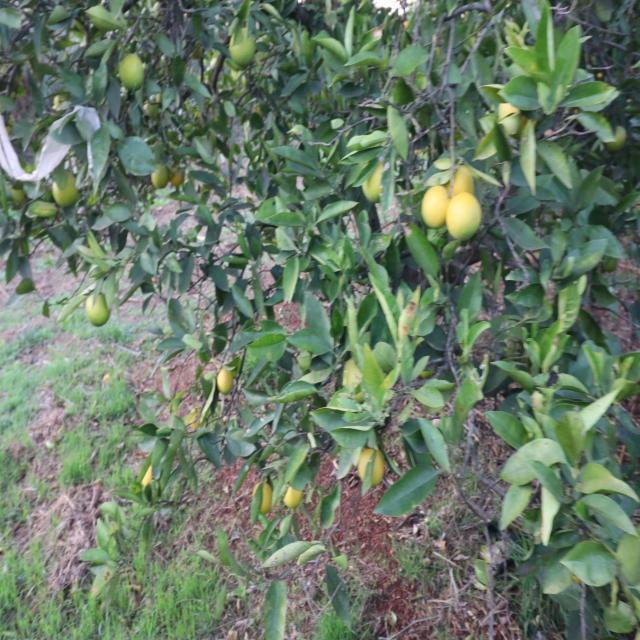Jeruk Belum Matang: (446, 196, 484, 242), (228, 28, 256, 68), (52, 172, 79, 208), (358, 449, 383, 486), (120, 54, 144, 92), (86, 292, 112, 326), (362, 162, 386, 198), (256, 481, 272, 514), (216, 368, 234, 393), (281, 484, 300, 506), (152, 162, 167, 188)
Jeruk Sudah Matang: (422, 188, 449, 228), (453, 167, 476, 199)
